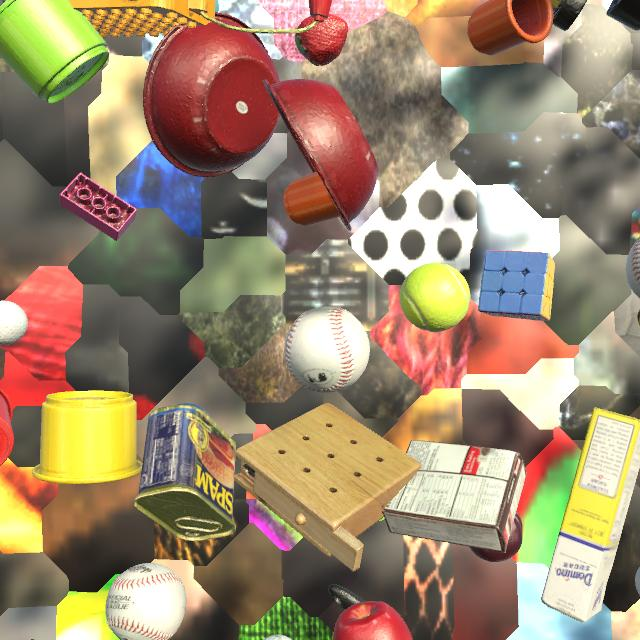ycb_004_sugar_box: (541, 407, 640, 623)
ycb_008_pudding_box: (382, 440, 527, 553)
ycb_010_potted_meat_can: (133, 405, 236, 541)
ycb_012_strawberry: (295, 14, 348, 66)
ycb_013_apple: (333, 601, 413, 640)
ycb_018_plum: (470, 511, 523, 562)
